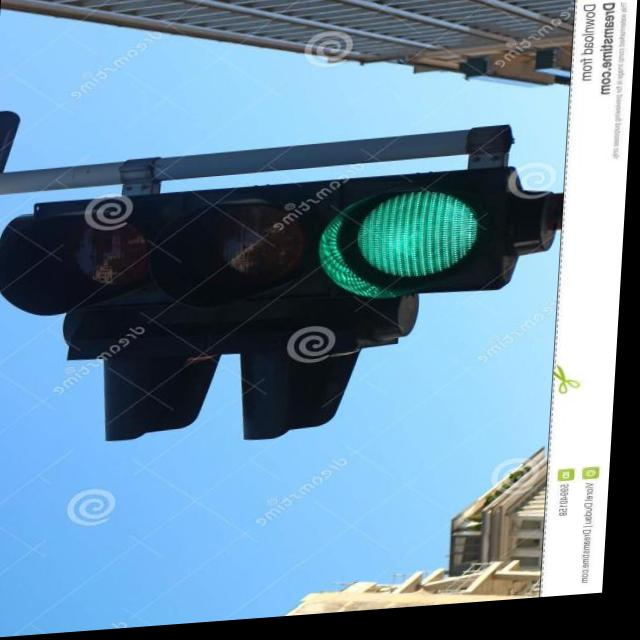green light: (6, 175, 507, 330)
